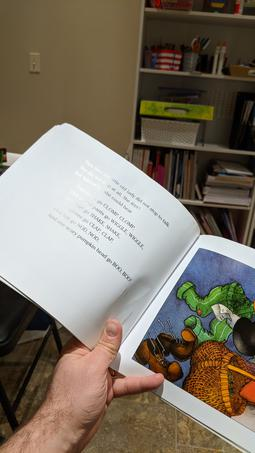text block: (44, 155, 173, 285)
